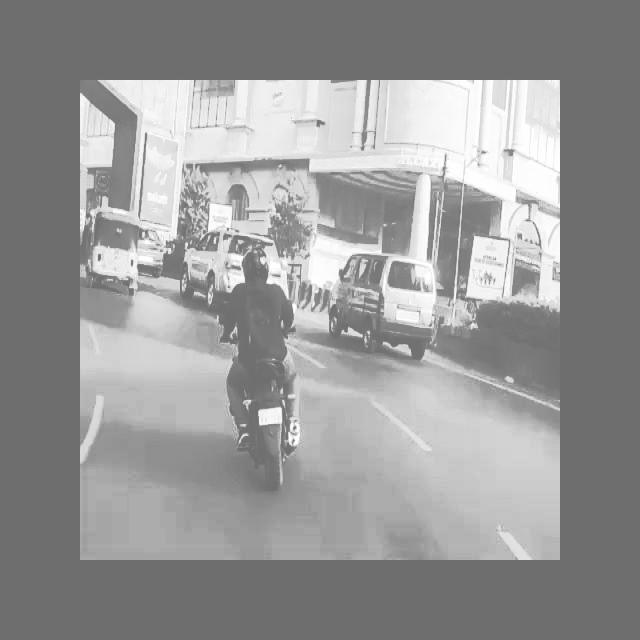Auto-Rickshaw: (90, 206, 143, 294)
Bike: (212, 252, 320, 493)
Car: (326, 248, 444, 372), (177, 215, 283, 319), (137, 223, 167, 279)
